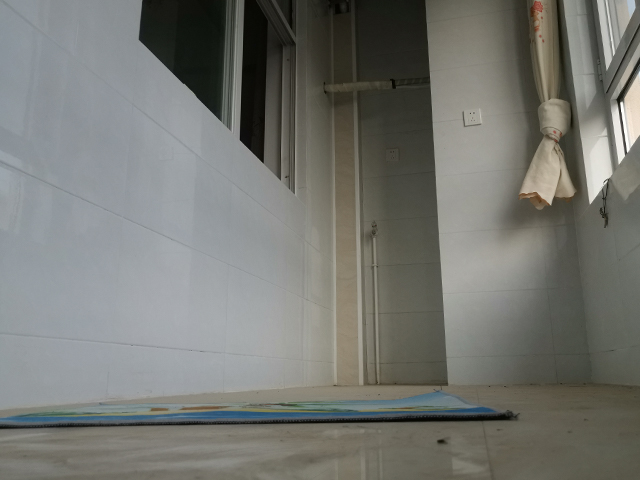carpet: (1, 386, 519, 430)
